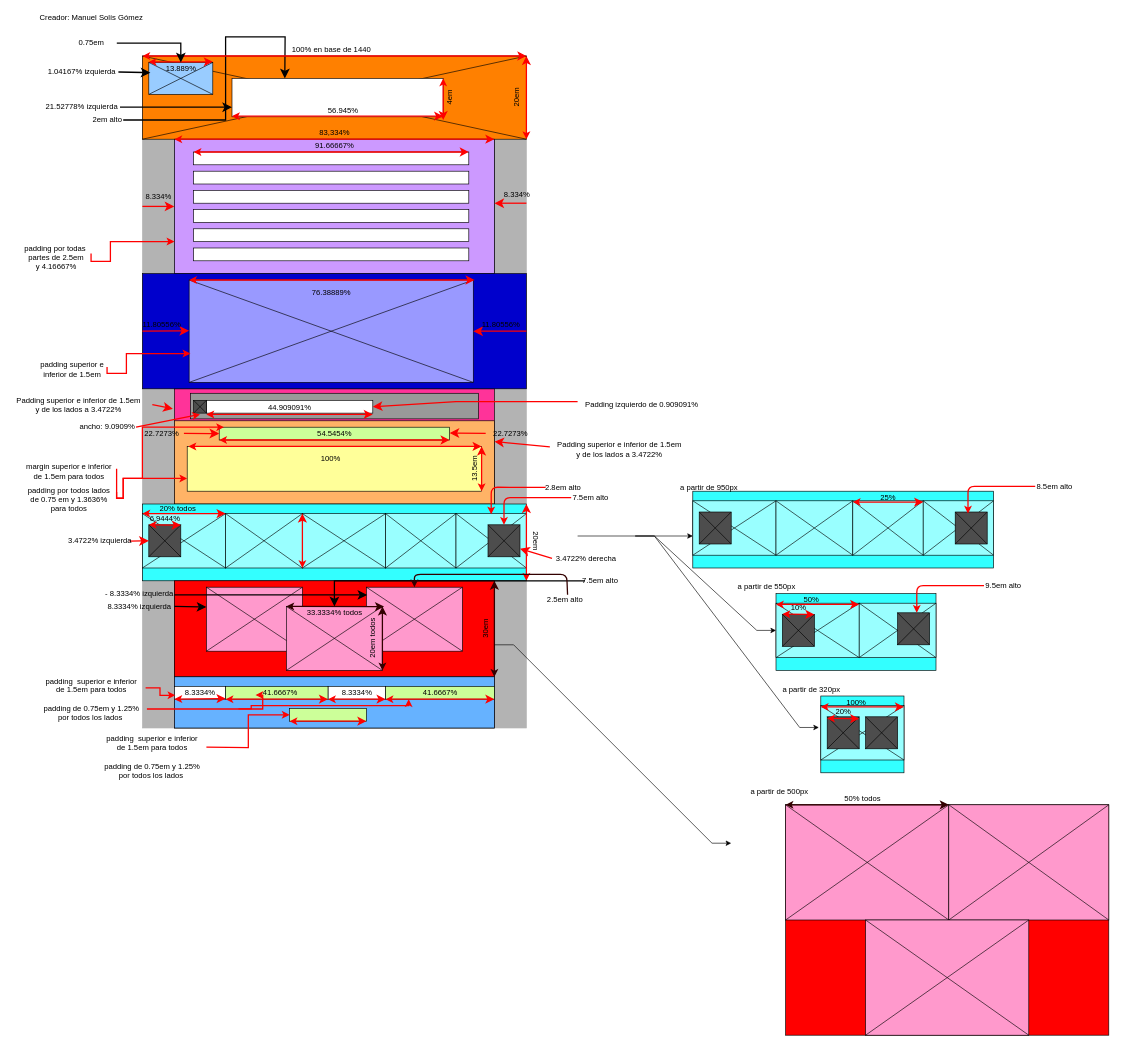
Image size: 1121x1047. Some labels were removed from this diagram. Here are the shapes that lost their labels. From the top down, the box of each, then its label:
(225, 513, 302, 568): 14.4em todos
(289, 708, 366, 721): 350px
